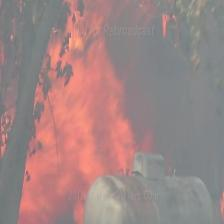fire: (0, 0, 171, 223)
